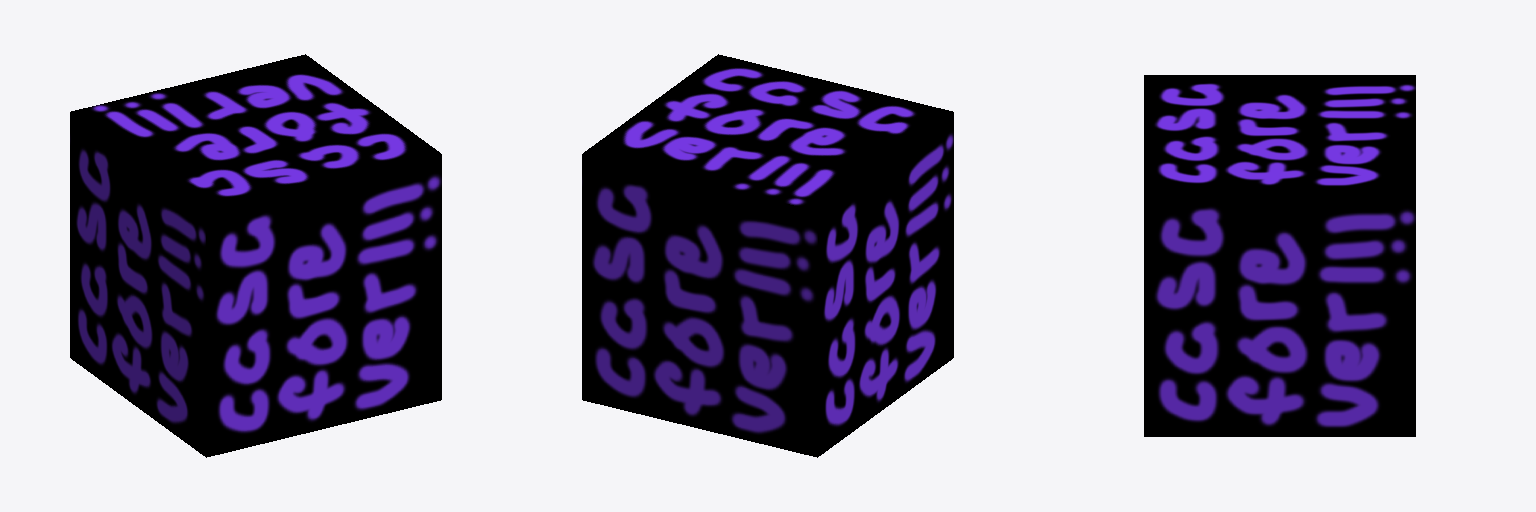
The picture shows the model from 3 angles: view 1: azimuth 30°, elevation 25°; view 2: azimuth 150°, elevation 25°; view 3: azimuth 270°, elevation 25°; orthographic projection.
Visible parts, largest first — view 1: Cube_Cube.001; view 2: Cube_Cube.001; view 3: Cube_Cube.001.
Boxes of the visible parts, box(x1,y1,x2,y2) form: Cube_Cube.001: box(70, 54, 441, 457); Cube_Cube.001: box(582, 54, 953, 457); Cube_Cube.001: box(1144, 75, 1415, 436).
Bounding box in the file's own units: 2 × 2 × 2.
Materials: 1 (1 with a texture image).